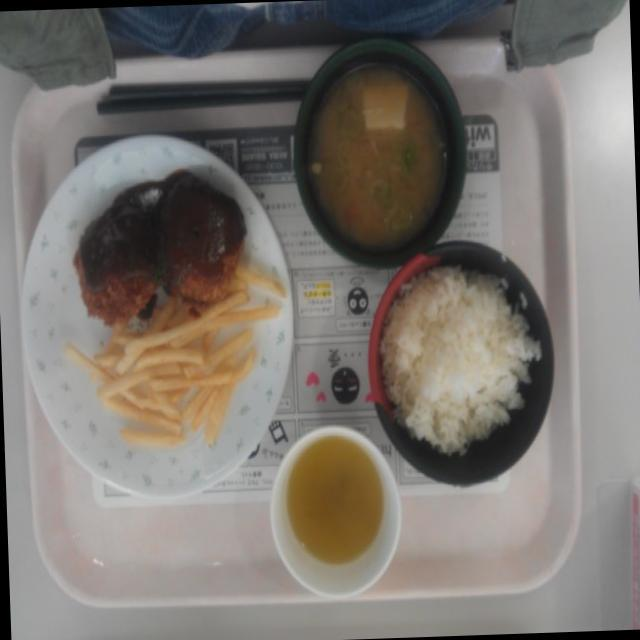Rice: (384, 262, 538, 473)
